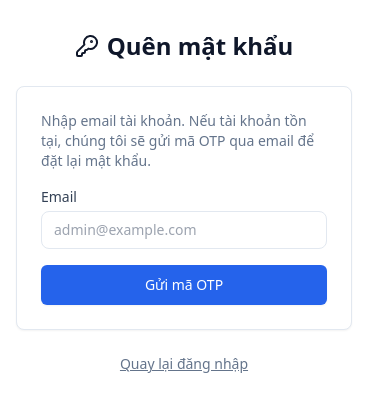
Test: ForgotPasswordPage flow (Task 3 + Slice-2) › blocks the request and shows an error when the email is empty
Click the button "Gửi mã OTP": point(184, 285) [41,265,327,305]
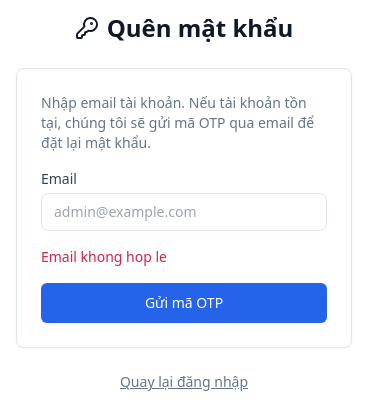
Expected: the message "Email khong hop le" is shown, [41,247,167,266]
